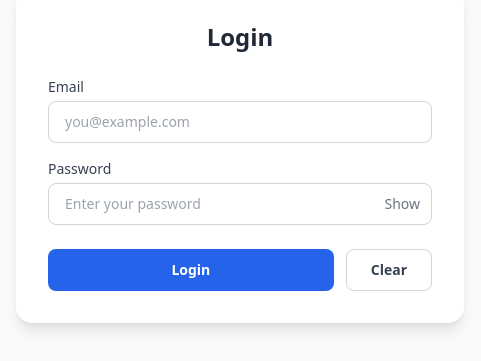
Test: LoginForm › shows error for short password
Step 1. Type "user@example.com" into the field labelled "Email" → (240, 122), box x1=48 y1=101 x2=432 y2=143
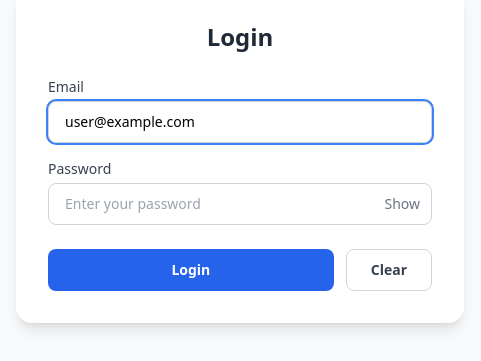
Step 2. Type "short" into the password field labelled "Password" → (240, 204), box x1=48 y1=183 x2=432 y2=225
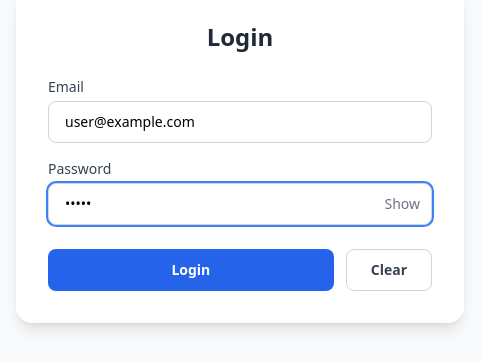
Step 3. Click the button "Login" → (191, 270), box x1=48 y1=249 x2=334 y2=291
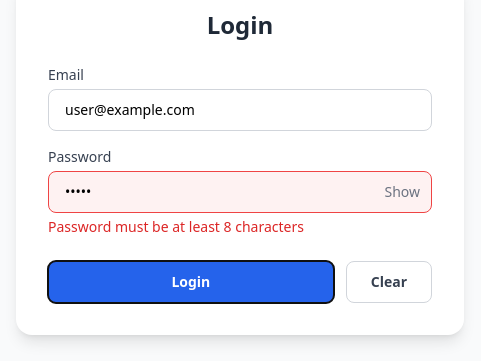
Now the text "Password must be at least 8 characters" is shown, box x1=48 y1=217 x2=304 y2=236
